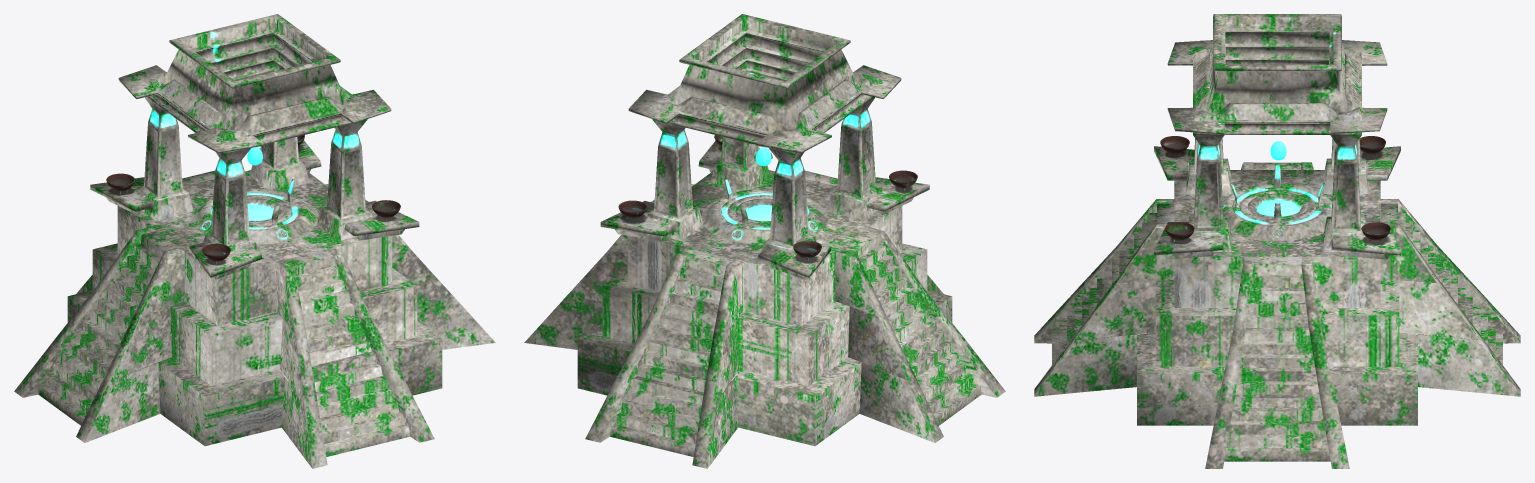
Rendered from temple.glb.
3 renders of one model, left to right at view 1: azimuth 30°, elevation 25°; view 2: azimuth 150°, elevation 25°; view 3: azimuth 270°, elevation 25°, orthographic. The views are drawn at different scales.
Parts seen in each view (by area): view 1: Box001; view 2: Box001; view 3: Box001.
Part boxes in pixels (box(x1,y1,x2,y2)): Box001: box(14, 14, 495, 468); Box001: box(524, 14, 1005, 468); Box001: box(1034, 14, 1520, 468).
Bounding box in the file's own units: 2 × 1.48 × 2.
Materials: 1 (1 with a texture image).
